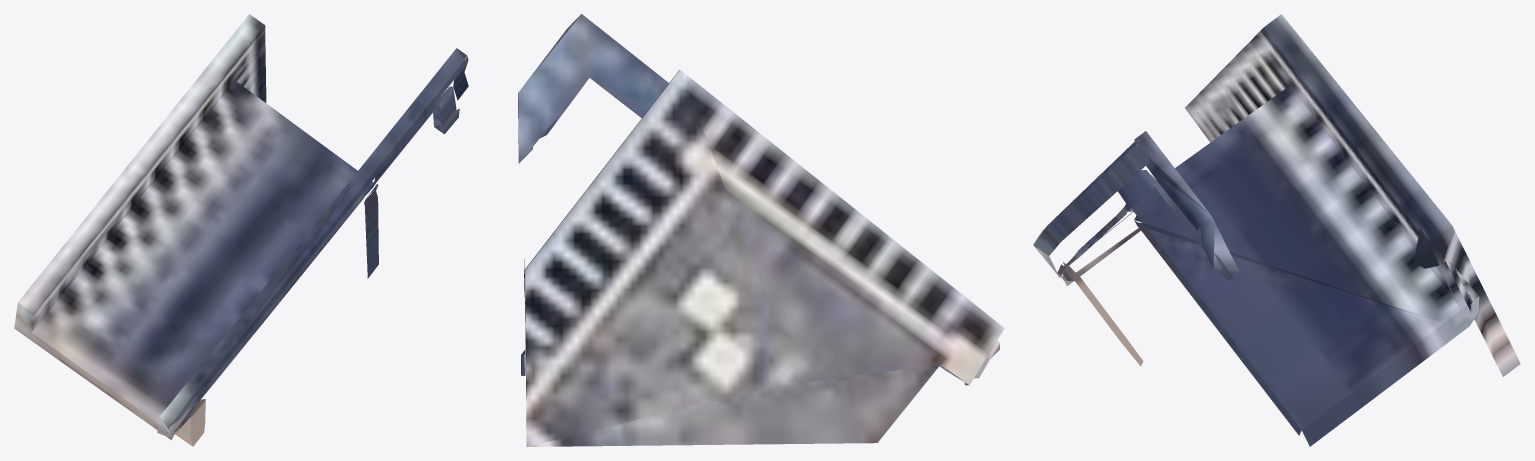
3 views of the same model, side by side, from view 1: azimuth 30°, elevation 25°; view 2: azimuth 150°, elevation 25°; view 3: azimuth 270°, elevation 25° (orthographic). The views are drawn at different scales.
Bounding box in the file's own units: 12.32 × 9.33 × 9.84.
1 material, 1 textured.
